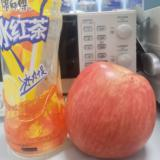apple: (65, 61, 155, 159)
